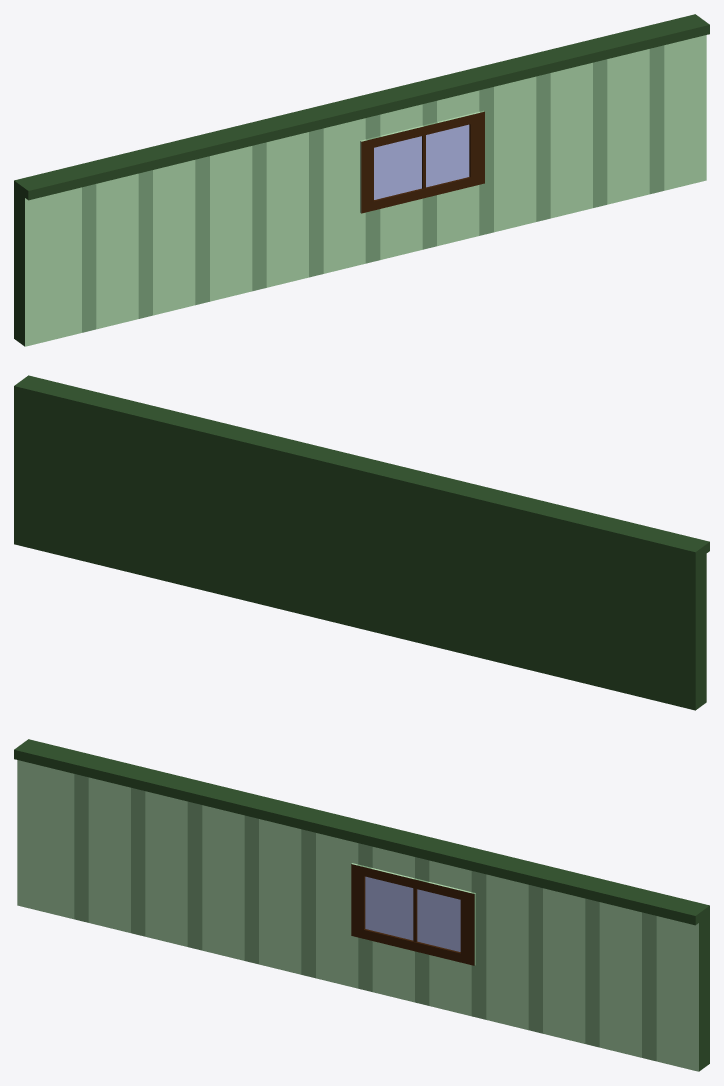
File: ForwardWallWindow_House.fbx
3 renders of one model, top to bottom at view 1: azimuth 30°, elevation 25°; view 2: azimuth 150°, elevation 25°; view 3: azimuth 330°, elevation 25°, orthographic.
Parts seen in each view (by area): view 1: Left_Wall.002; view 2: Left_Wall.002; view 3: Left_Wall.002.
Boxes of the visible parts, bbox=[...] form: Left_Wall.002: bbox=[14, 14, 709, 346]; Left_Wall.002: bbox=[14, 375, 709, 710]; Left_Wall.002: bbox=[14, 739, 709, 1071].
Size of the model in its own units: 9.01 by 2 by 0.3315.
